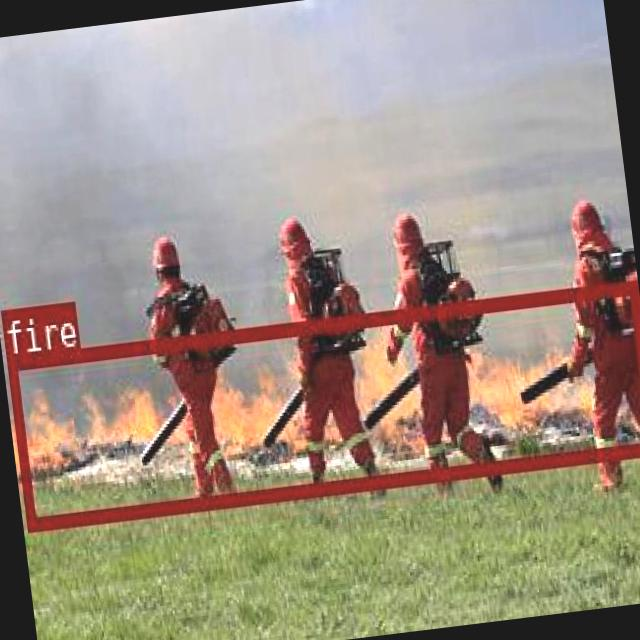fire: (4, 280, 640, 527)
